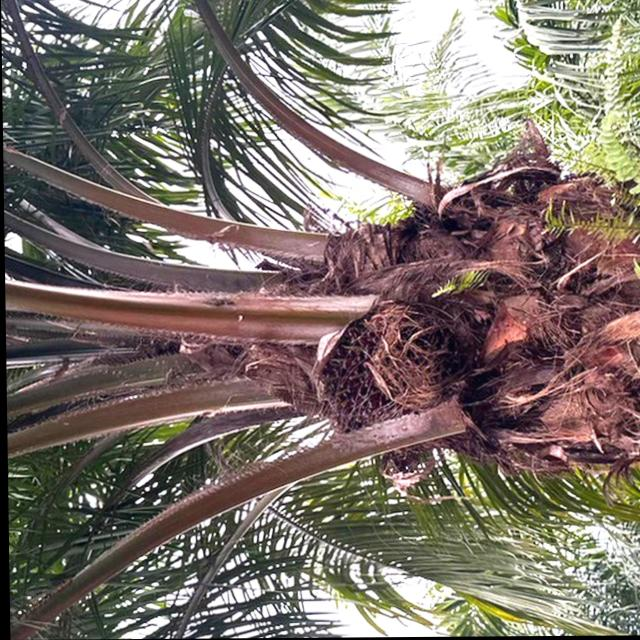ripe: (303, 285, 475, 478)
